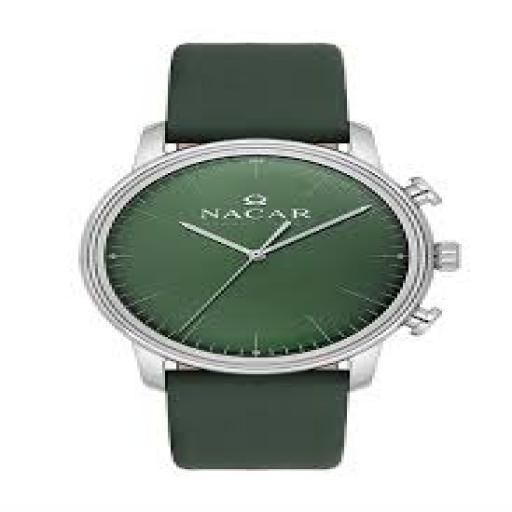KolSaati: (78, 24, 474, 484)
